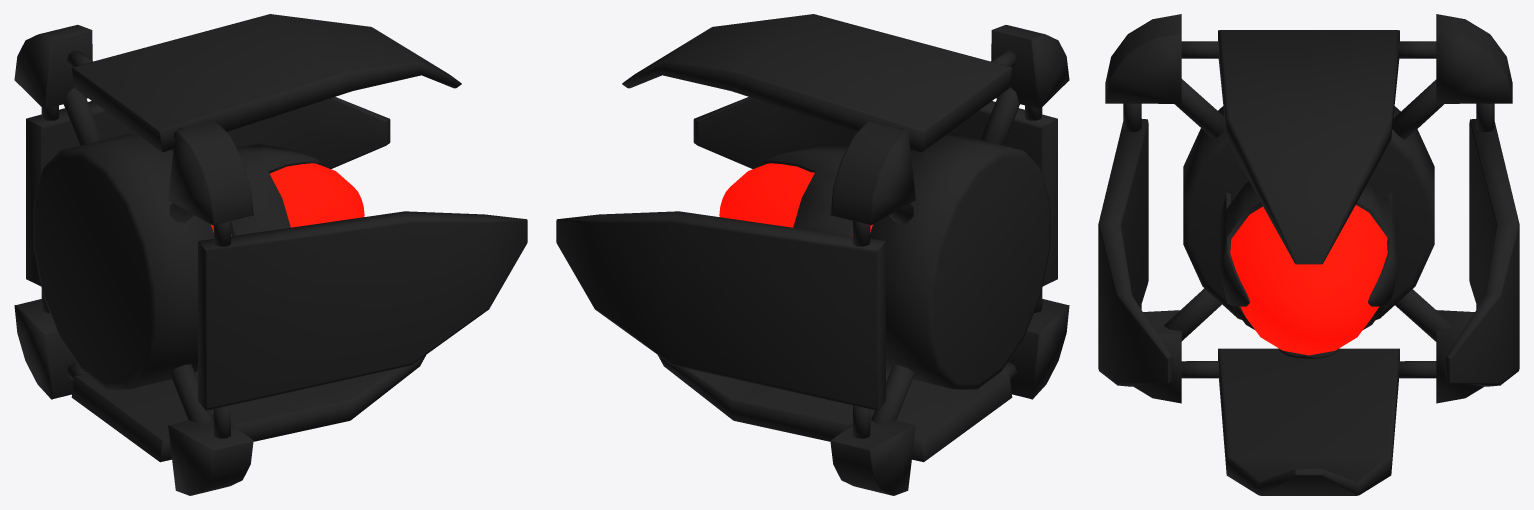
The model's file is Turret4Done.fbx.
3 renders of one model, left to right at view 1: azimuth 30°, elevation 25°; view 2: azimuth 150°, elevation 25°; view 3: azimuth 270°, elevation 25°, orthographic. The views are drawn at different scales.
Parts seen in each view (by area): view 1: Arm1.001; view 2: Arm1.001; view 3: Arm1.001.
Boxes of the visible parts, left/top/right/bottom form: Arm1.001: left=14, top=14, right=527, bottom=495; Arm1.001: left=556, top=14, right=1069, bottom=495; Arm1.001: left=1098, top=14, right=1519, bottom=495.
Bounding box in the file's own units: 523 × 491 × 509.
